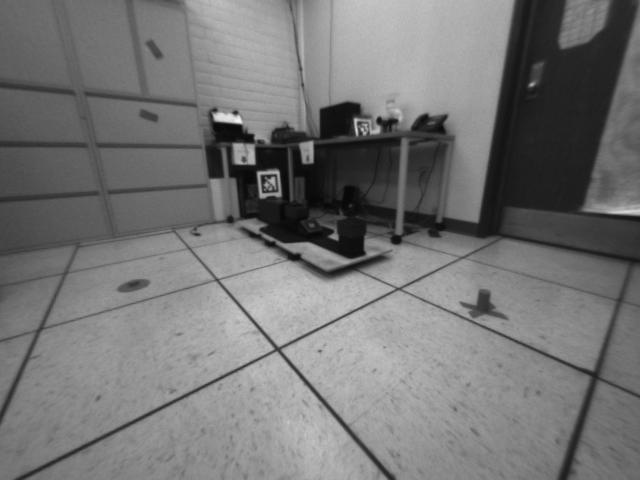X: (457, 287, 511, 322)
